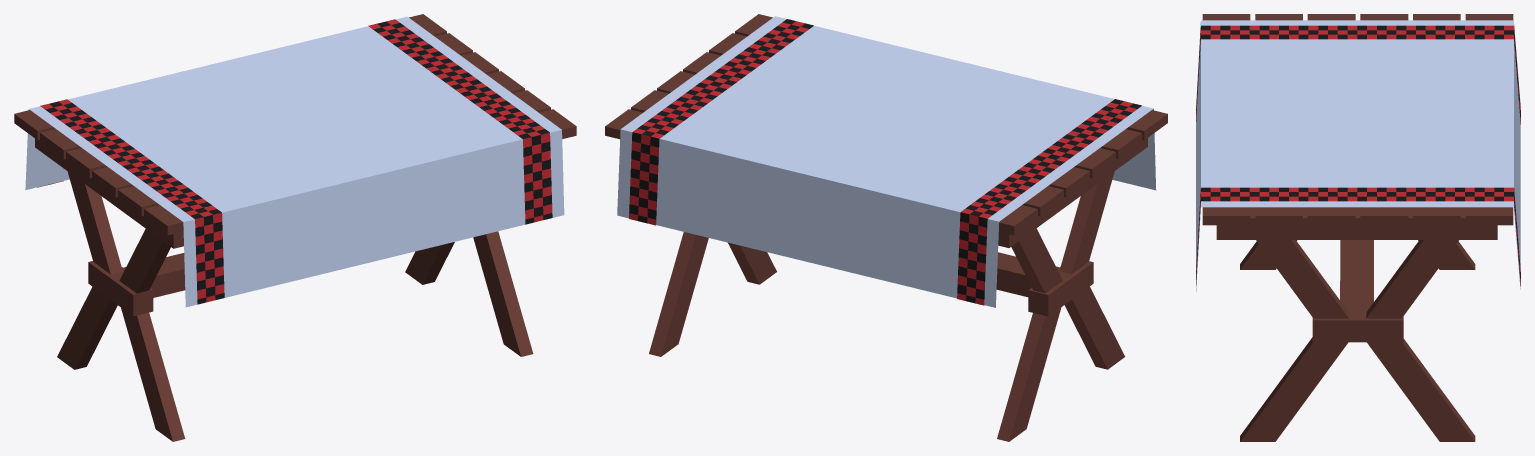
Rendered from table_tablecloth.fbx.
3 renders of one model, left to right at view 1: azimuth 30°, elevation 25°; view 2: azimuth 150°, elevation 25°; view 3: azimuth 270°, elevation 25°, orthographic.
Parts seen in each view (by area): view 1: Plane, table_cross.001, Plane.009; view 2: Plane, table_cross.001, Plane.009; view 3: Plane, table_cross.001, Plane.009.
Boxes of the visible parts, x1,y1,x2,y2 form: Plane: [25, 16, 564, 307]; table_cross.001: [14, 14, 576, 441]; Plane.009: [37, 19, 552, 304]; Plane: [617, 16, 1156, 307]; table_cross.001: [605, 14, 1167, 441]; Plane.009: [629, 19, 1141, 305]; Plane: [1196, 20, 1520, 291]; table_cross.001: [1202, 14, 1513, 441]; Plane.009: [1196, 25, 1520, 286].
Size of the model in its own units: 200 by 111 by 136.
